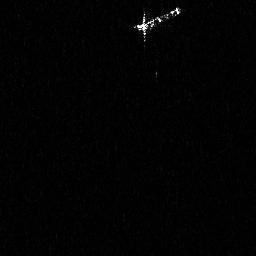ship: (133, 4, 182, 44)
